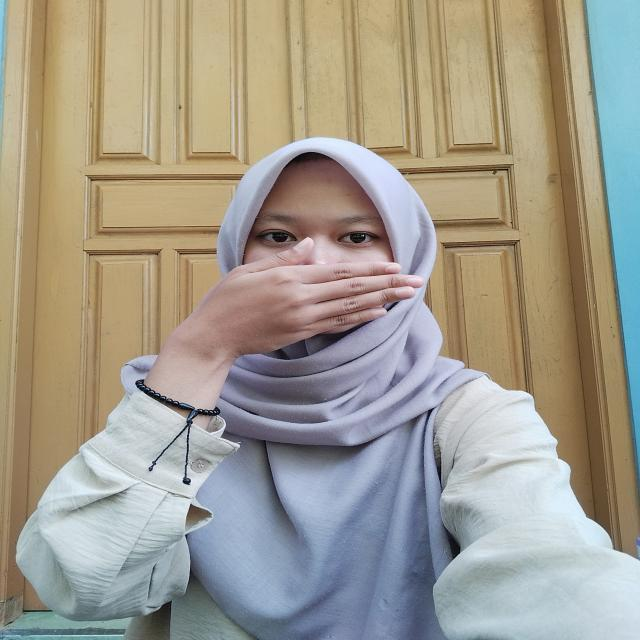buruk: (146, 241, 432, 383)
